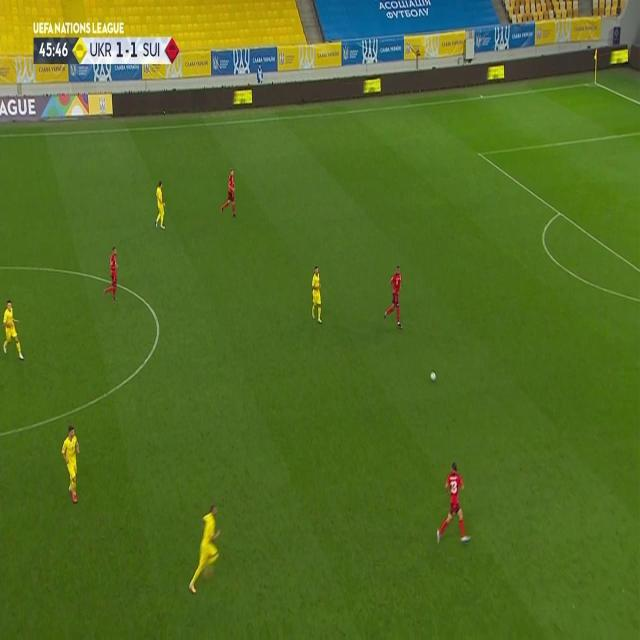ball: (429, 370, 436, 381)
player: (187, 504, 223, 594), (436, 462, 470, 548), (59, 426, 81, 503), (383, 263, 405, 329), (1, 299, 25, 359), (220, 165, 238, 219), (103, 245, 119, 302), (309, 263, 323, 325), (153, 180, 167, 230)
